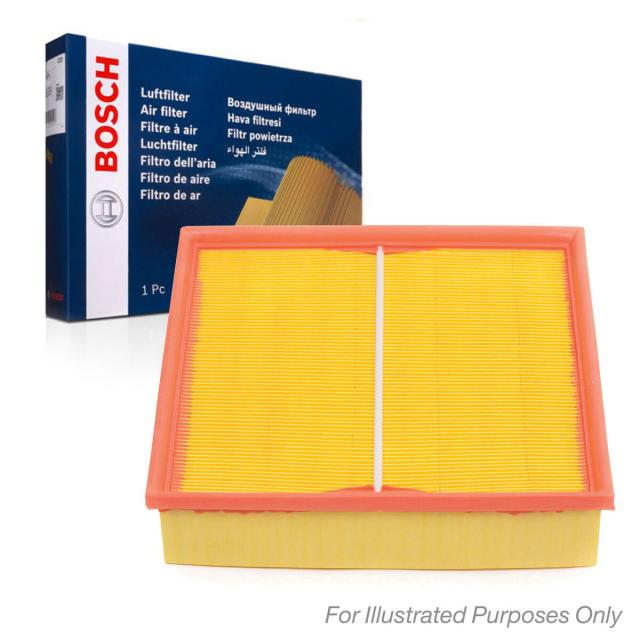air_filter: (153, 225, 612, 571)
